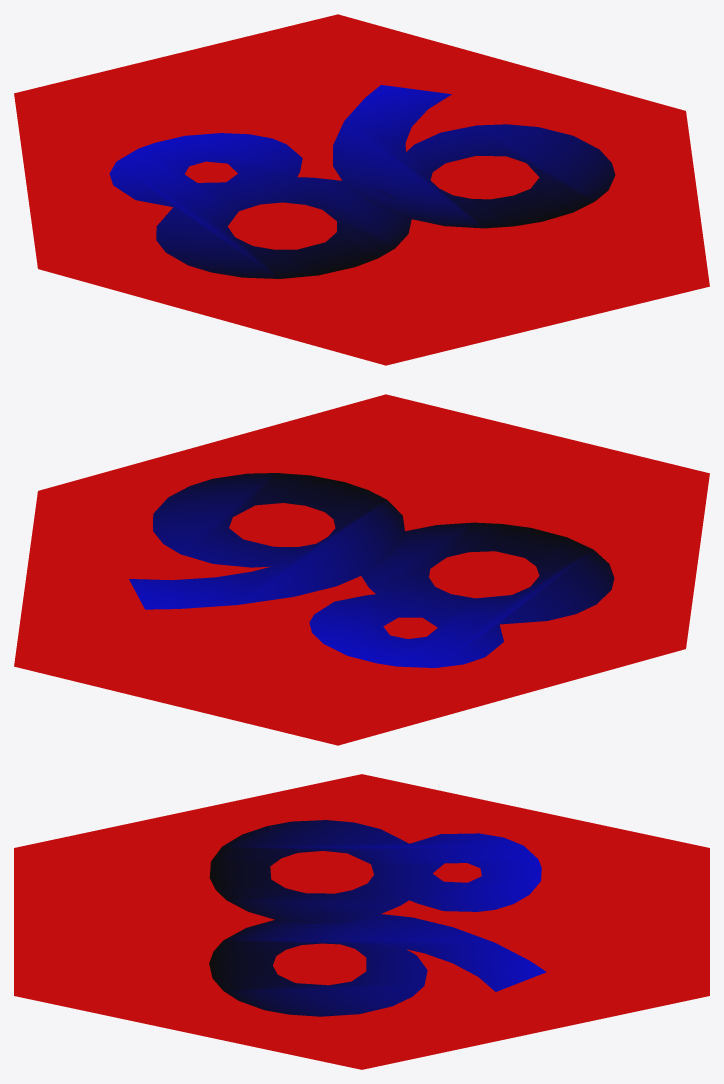
The model's file is SM_Number_86.fbx.
3 views of the same model, one above another, from view 1: azimuth 30°, elevation 25°; view 2: azimuth 150°, elevation 25°; view 3: azimuth 270°, elevation 25° (orthographic). The views are drawn at different scales.
Visible parts, largest first — view 1: FBX_OUT; view 2: FBX_OUT; view 3: FBX_OUT.
Part boxes in pixels (<box>): FBX_OUT: <box>14,14,709,365</box>; FBX_OUT: <box>14,394,709,745</box>; FBX_OUT: <box>14,774,709,1069</box>.
Size of the model in its own units: 50 by 0.2917 by 49.71.
